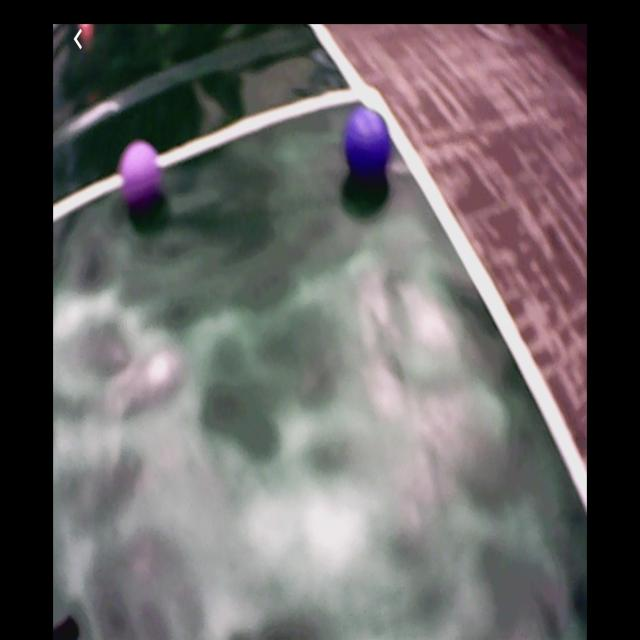ball: (344, 111, 392, 176), (124, 140, 163, 204)
